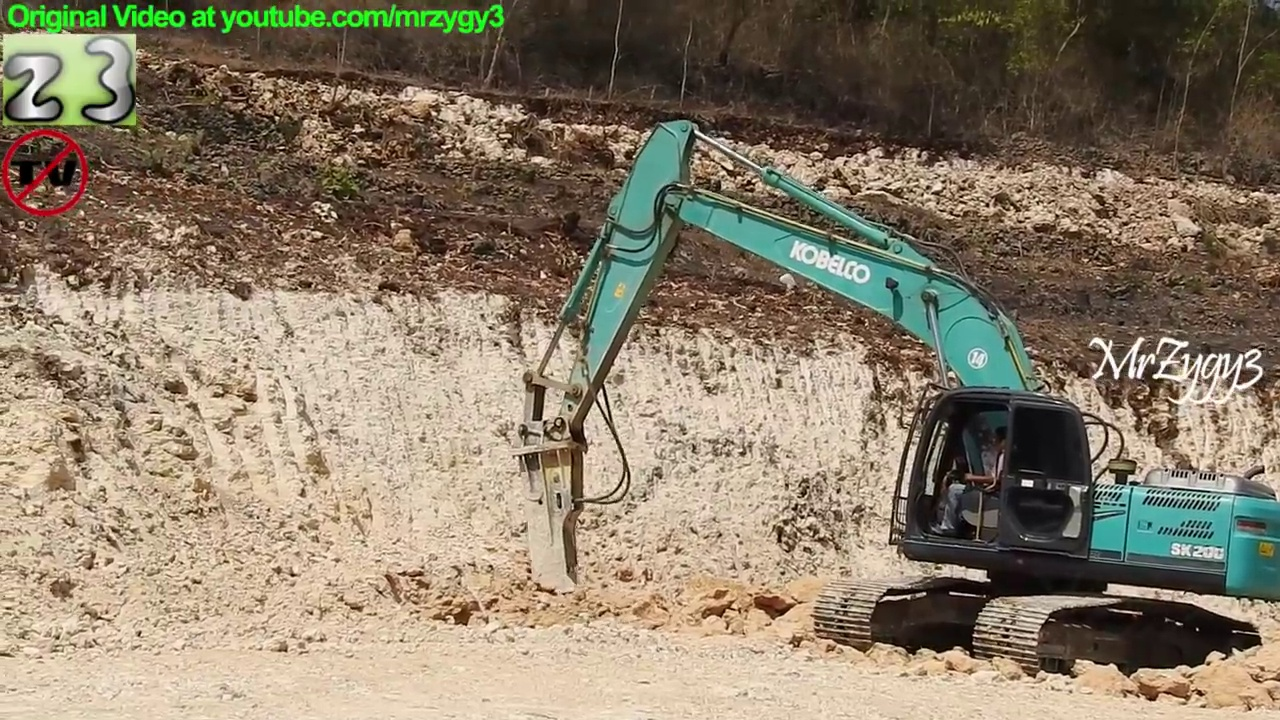excavator breaker: (505, 116, 1280, 693)
